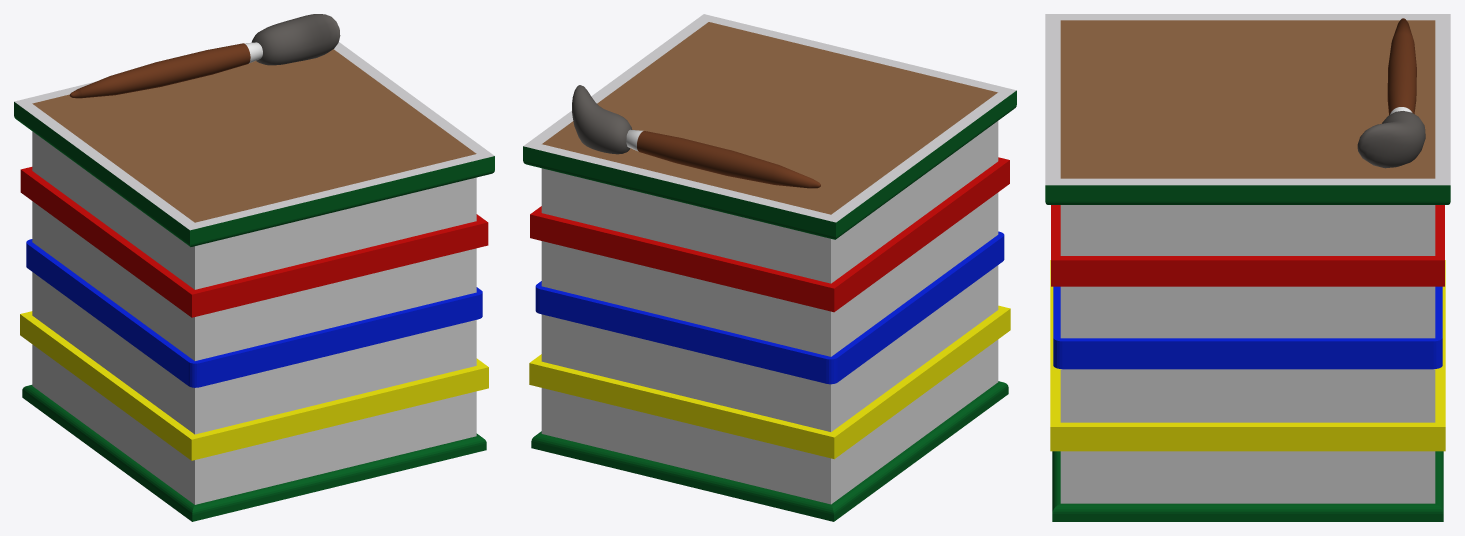
File: paintcounter.fbx
3 views of the same model, side by side, from view 1: azimuth 30°, elevation 25°; view 2: azimuth 150°, elevation 25°; view 3: azimuth 270°, elevation 25° (orthographic). The views are drawn at different scales.
Visible parts, largest first — view 1: Paint Counter, PaintbrushBody, Cube.008; view 2: Paint Counter, PaintbrushBody, Cube.008; view 3: Paint Counter, Cube.008, PaintbrushBody.
Part boxes in pixels (x1,y1,x2,y2): Paint Counter: (14, 42, 494, 521); PaintbrushBody: (69, 42, 262, 98); Cube.008: (251, 14, 340, 65); Paint Counter: (523, 14, 1016, 521); PaintbrushBody: (626, 129, 820, 188); Cube.008: (572, 85, 632, 154); Paint Counter: (1045, 14, 1450, 521); Cube.008: (1357, 111, 1425, 168); PaintbrushBody: (1387, 18, 1416, 115).
Bounding box in the file's own units: 216 × 228 × 216.
